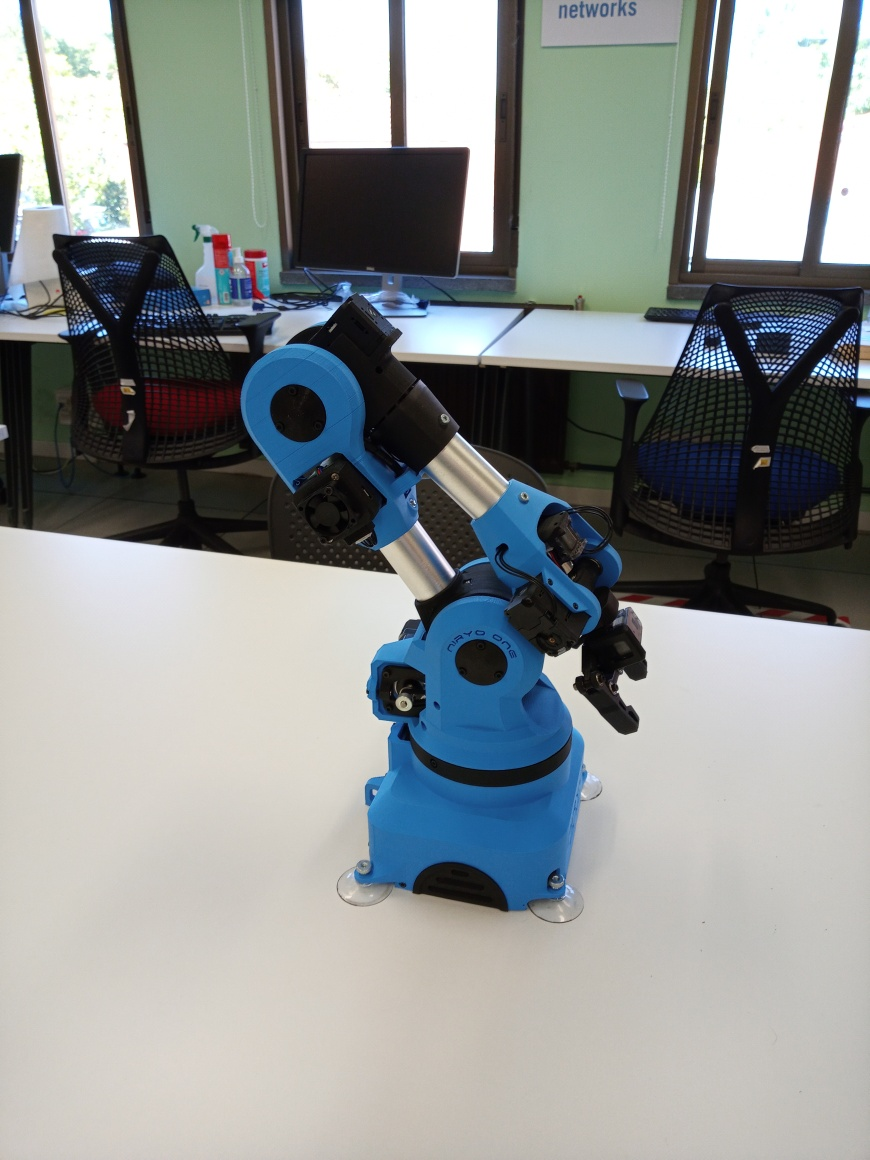robot: (236, 291, 653, 927)
